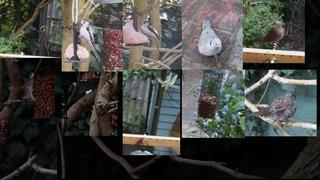collared dove: (198, 20, 223, 63)
dunnock: (250, 90, 297, 126)
long tailed tit: (78, 20, 103, 66), (140, 20, 162, 62)
mouse: (22, 78, 35, 102)
starling: (258, 20, 285, 50)
